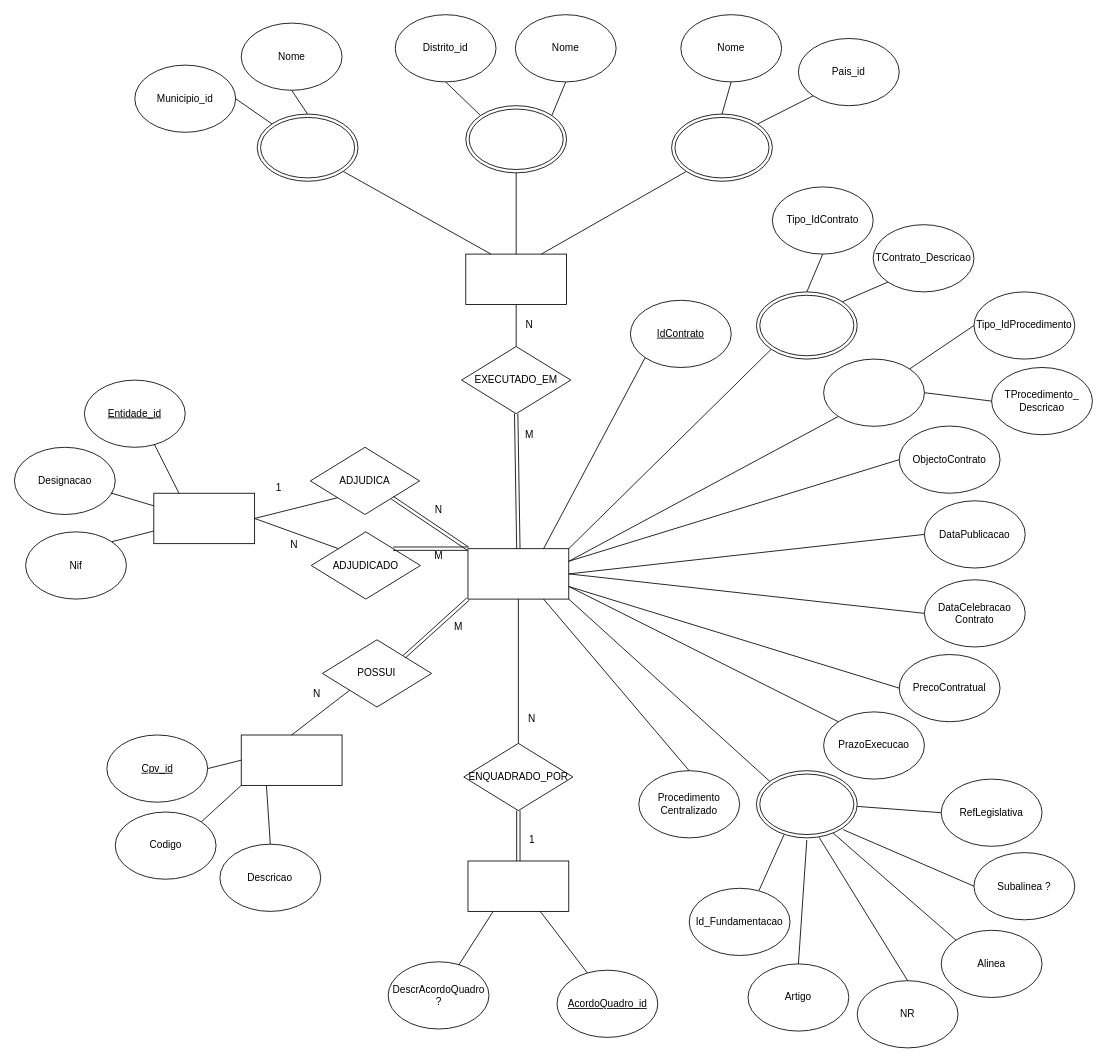
Some shapes in this 1108 by 1063 pixel diagram are drawn without their labels. Here are the shapes that lost their labels. From the top down, the centre of each, then its label:
At point (307, 147): "Municipio".
At point (516, 139): "Distrito".
At point (721, 147): "Pais".
At point (516, 278): "LOCALIZACAO".
At point (806, 325): "TipoContrato".
At point (873, 392): "TipoProcedimento".
At point (204, 518): "ENTIDADE".
At point (518, 573): "CONTRATO".
At point (291, 759): "CPV".
At point (806, 804): "Fundamentacao".
At point (518, 885): "ACORDOQUADRO".
